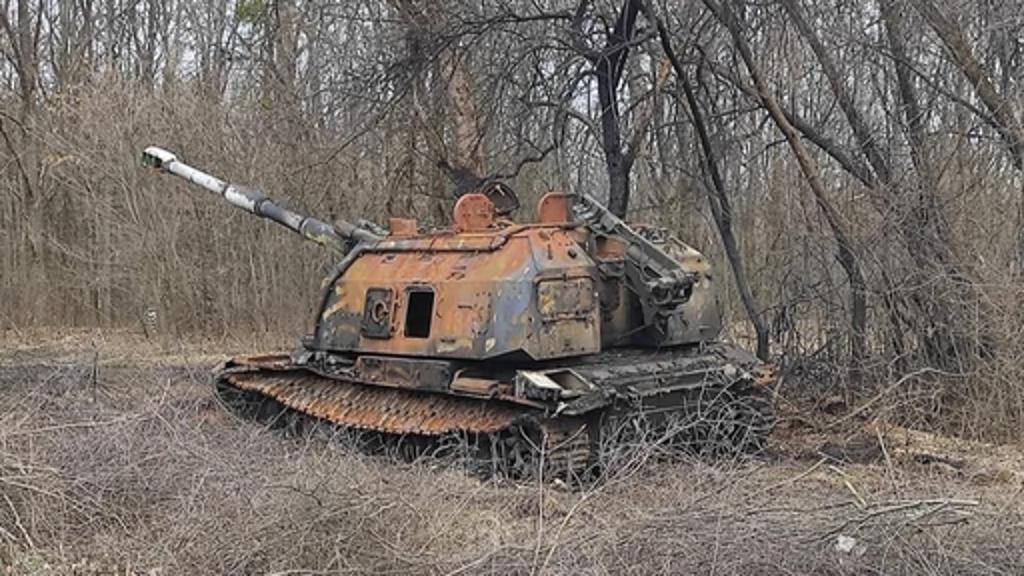ART: (138, 136, 776, 480)
